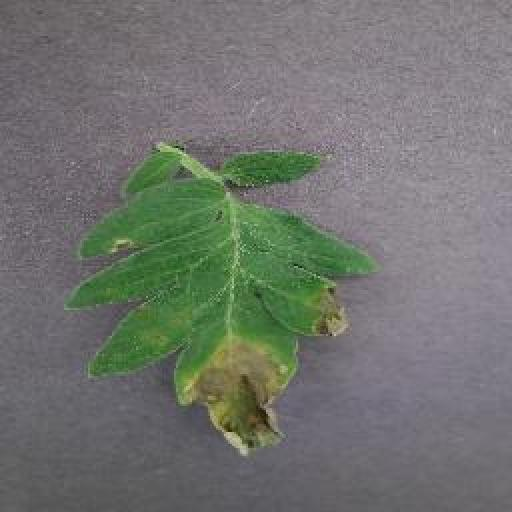disease_tomato: (70, 148, 378, 460)
